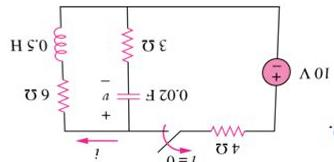resistor: (206, 113, 250, 140), (52, 72, 75, 114), (117, 22, 136, 70)
